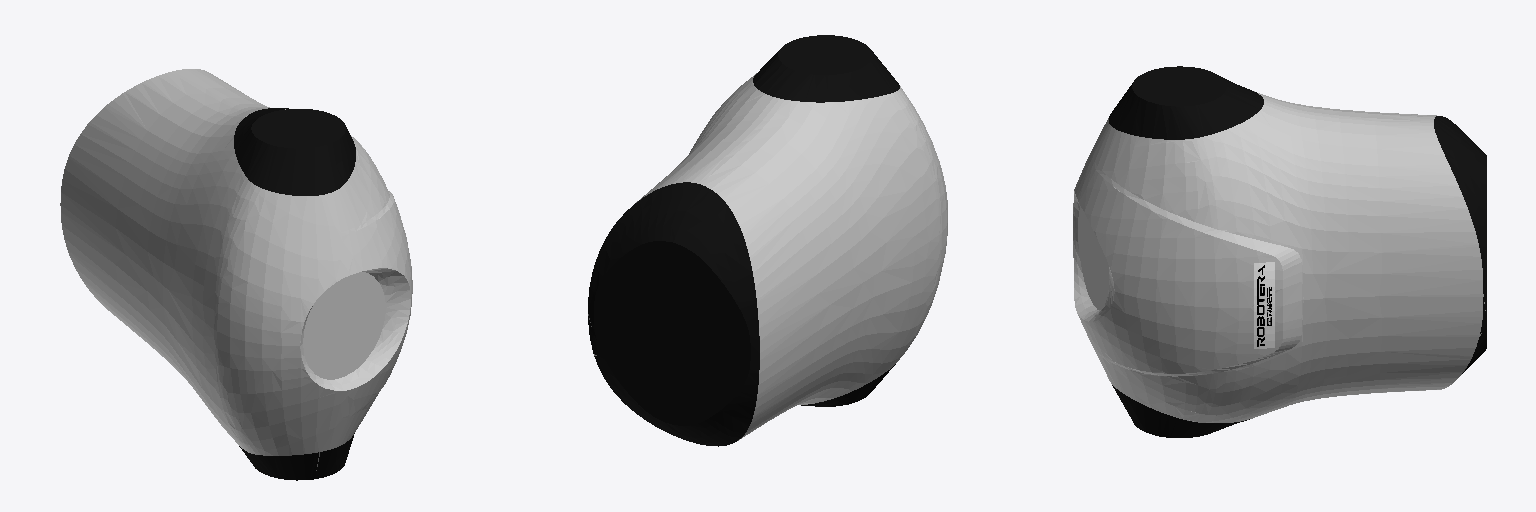
The picture shows the model from 3 angles: view 1: azimuth 30°, elevation 25°; view 2: azimuth 150°, elevation 25°; view 3: azimuth 270°, elevation 25°; orthographic projection.
Parts seen in each view (by area): view 1: base_link; view 2: base_link; view 3: base_link.
Part boxes in pixels (x1,y1,x2,y2): base_link: (60, 69, 412, 480); base_link: (588, 35, 947, 446); base_link: (1073, 66, 1486, 437).
Bounding box in the file's own units: 0.2595 × 0.3855 × 0.4353.
Materials: 3 (1 with a texture image).